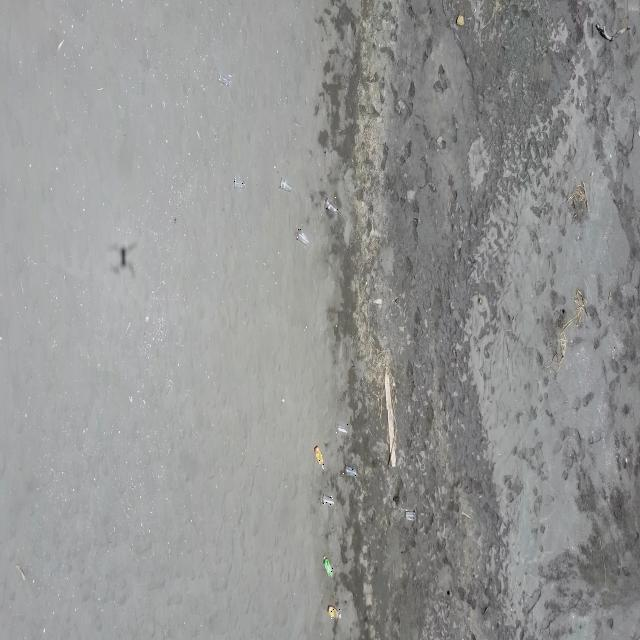plastic-bottle: (322, 555, 334, 577), (314, 444, 324, 469), (328, 604, 340, 620)
takeaway-cup: (296, 228, 310, 246), (279, 177, 293, 194), (325, 197, 338, 215), (321, 492, 335, 506), (402, 509, 414, 524), (219, 70, 230, 86), (336, 423, 349, 436), (343, 464, 357, 476), (233, 178, 246, 189)
